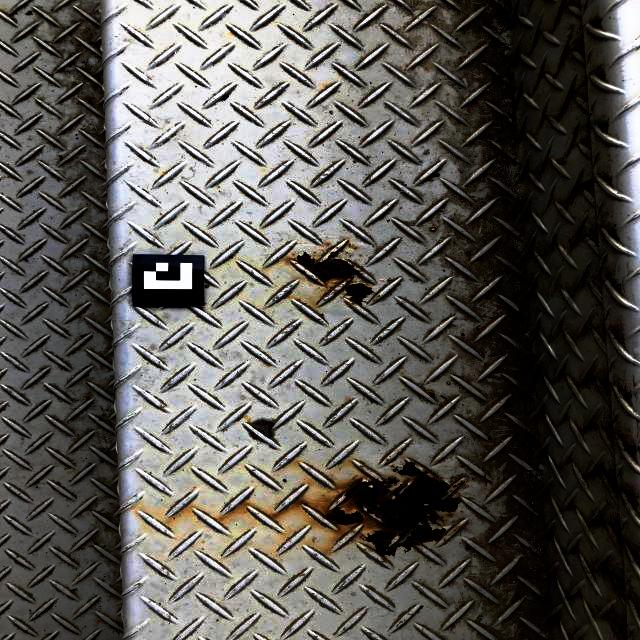Corrosion: (336, 459, 463, 563), (289, 241, 364, 283), (342, 282, 376, 307), (325, 506, 365, 527), (298, 501, 325, 518), (345, 276, 354, 285), (348, 243, 358, 249), (457, 525, 463, 528), (448, 514, 454, 516), (460, 510, 464, 513), (466, 480, 468, 483)
